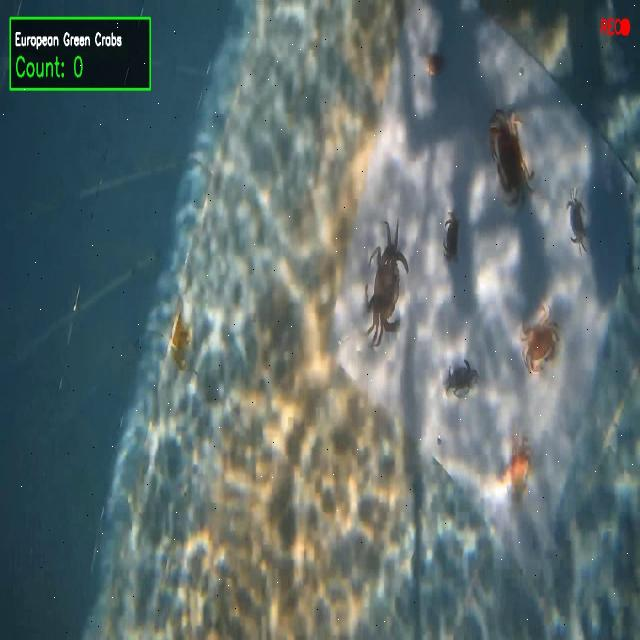European_Green_Crab: (355, 207, 415, 366), (440, 347, 483, 411), (562, 180, 595, 259)
